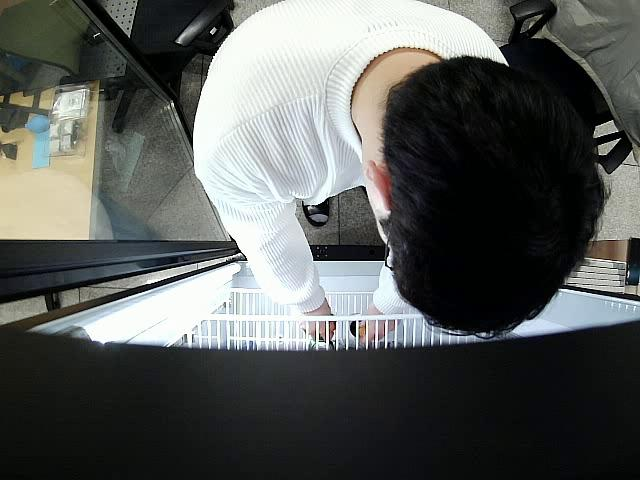00_hand: (300, 306, 336, 343), (354, 311, 396, 342)
17_vita500: (348, 321, 368, 339)
